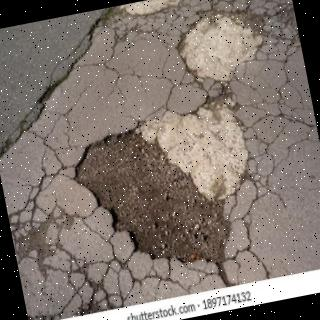pothole: (74, 8, 264, 286), (108, 0, 191, 16)
